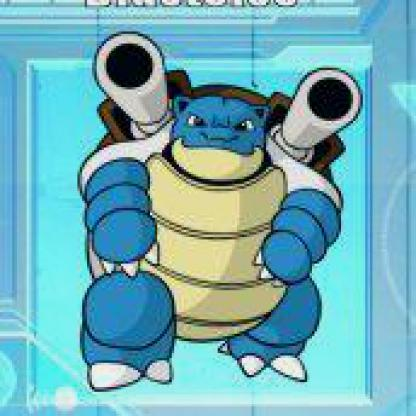Turtok: (0, 0, 414, 414)
